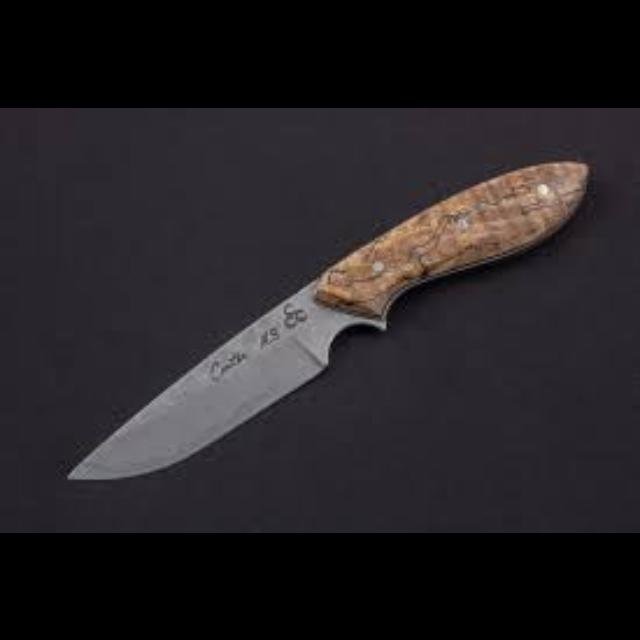knife: (65, 156, 590, 482)
